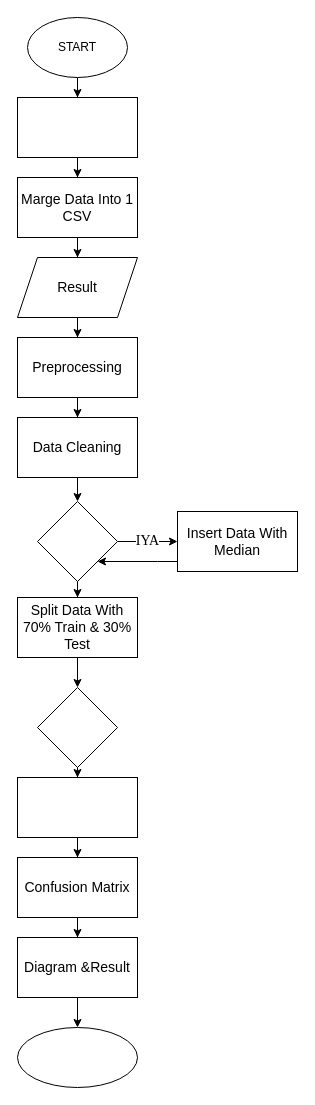
Image size: 315x1105. Some labels were removed from this diagram. The box of each missing label's shape, as (x1, y1, x2, y2) in pixels:
Algortihm Used: (36, 686, 118, 768)
Data Missing: (36, 500, 118, 582)
END: (16, 1026, 138, 1088)
Kernel : RBF Parameter : HR, STEPS, RHR: (16, 776, 138, 838)
Read CSV: (16, 96, 138, 158)
